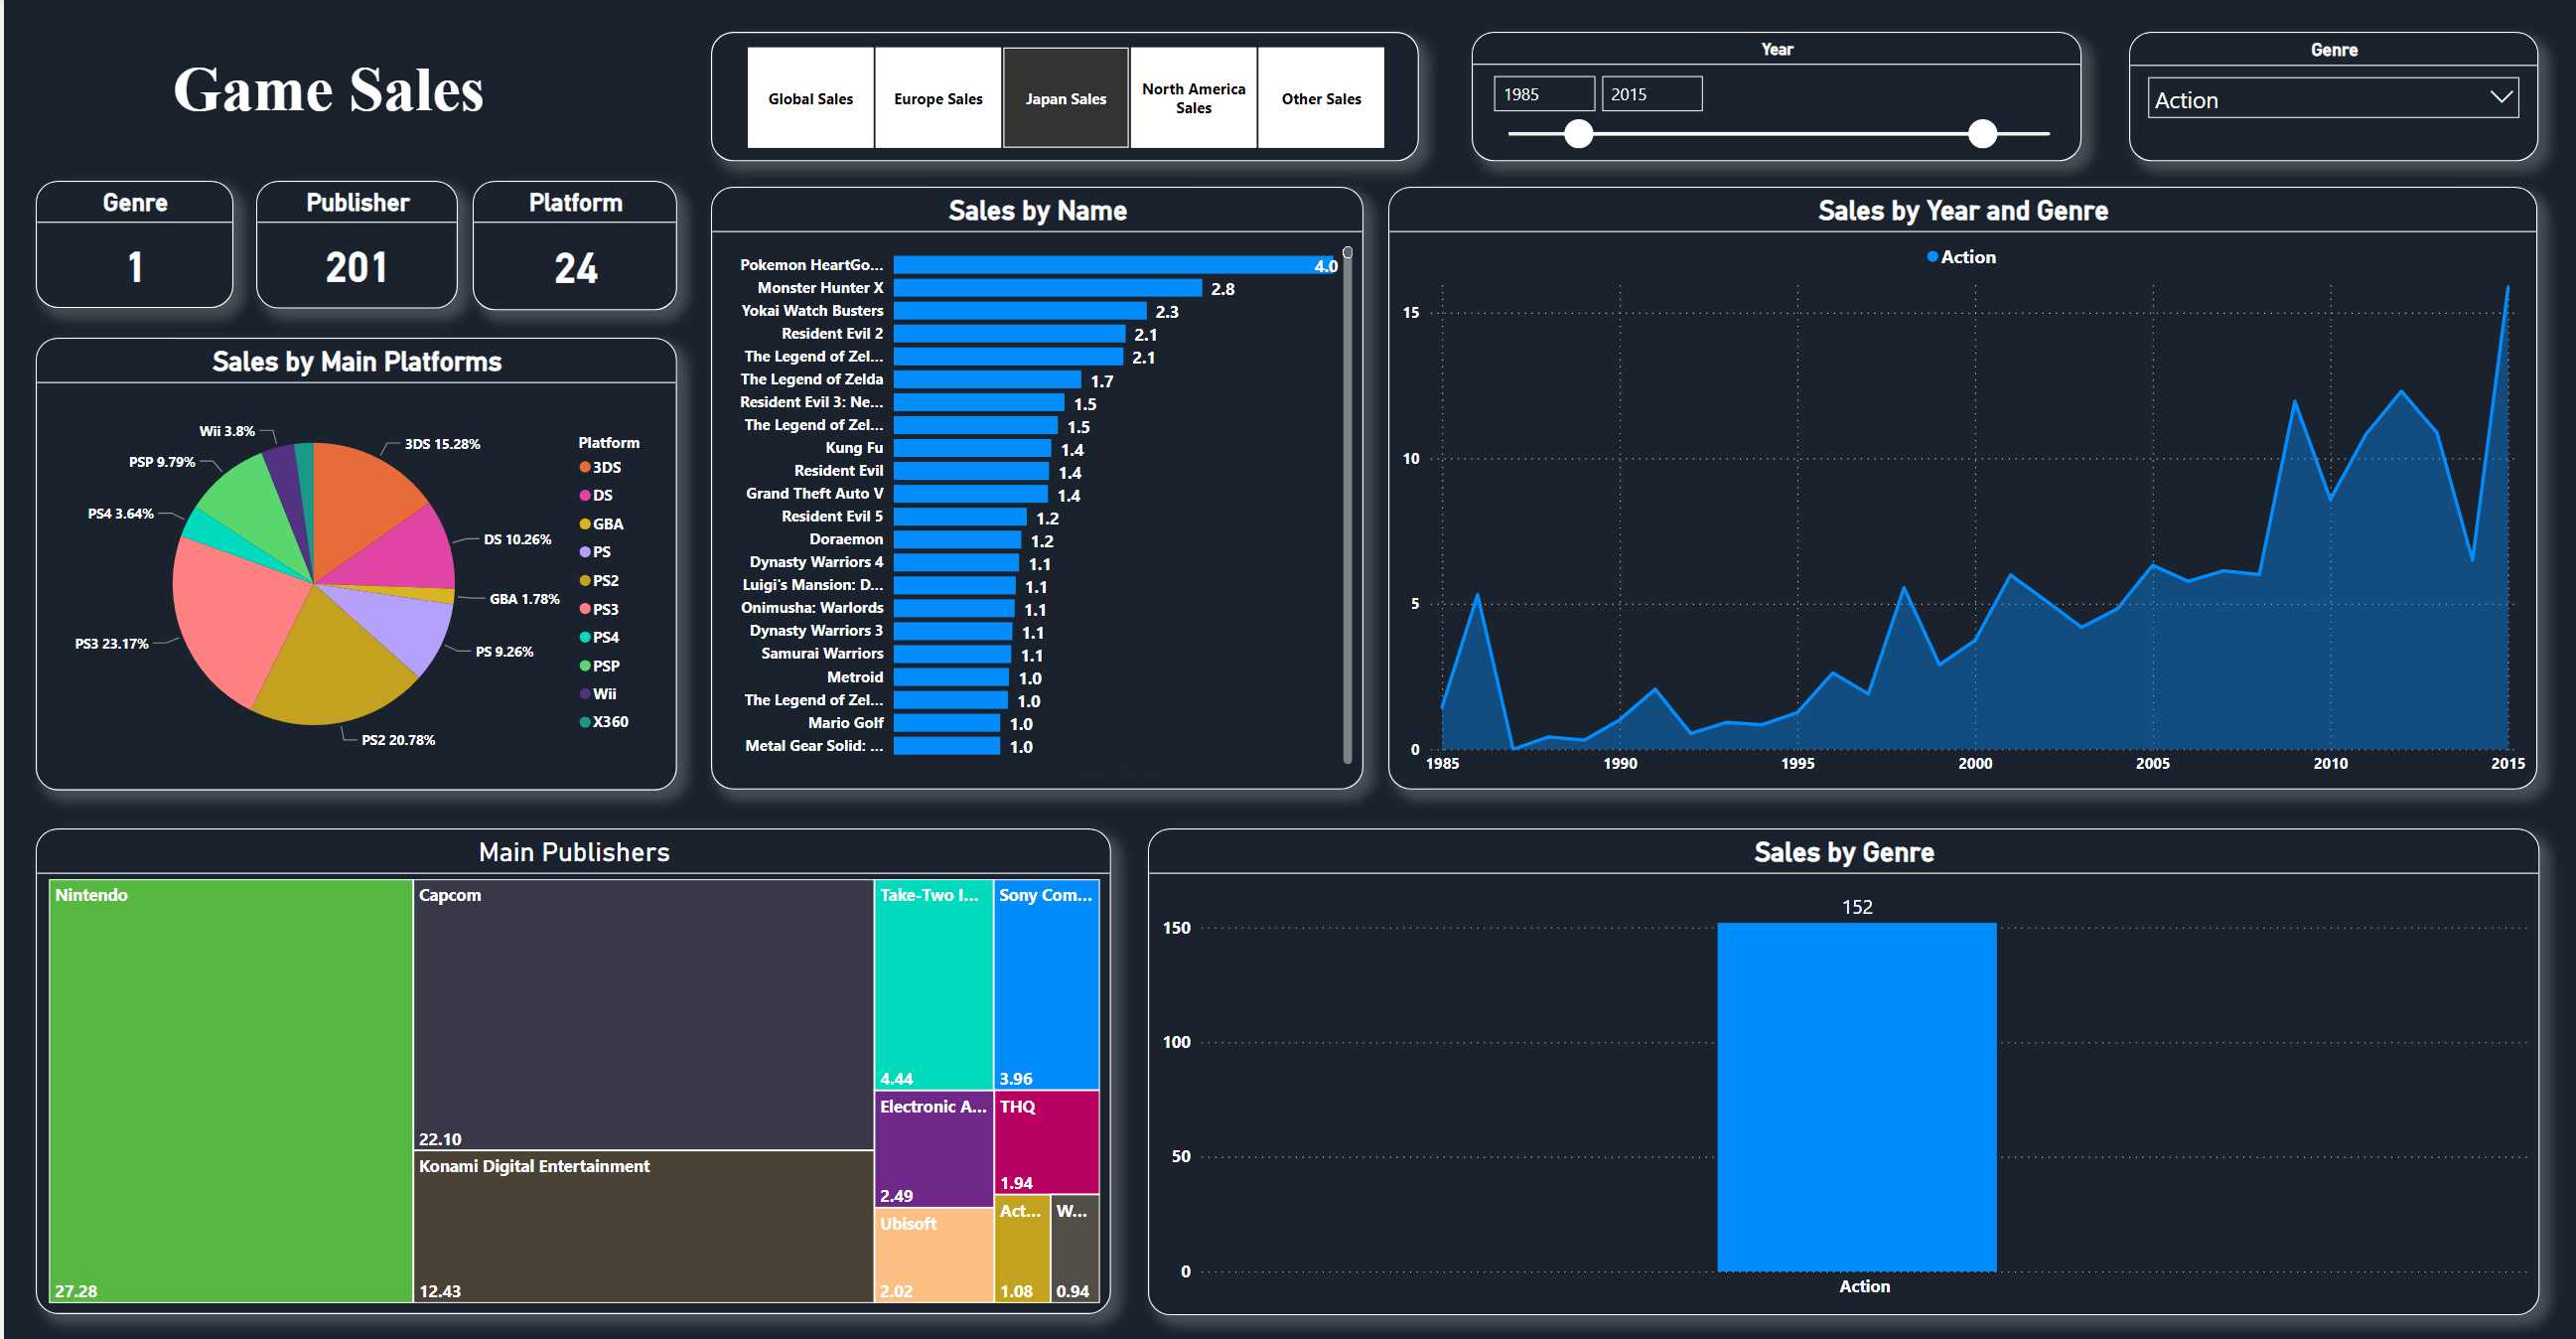

Layout of this report page (visuals, bound fields, positions):
{"tool":"powerbi","page":{"name":"Dashboard","canvas":[2300,1200],"ordinal":0},"visuals":[{"type":"slicer","fields":{"Values":["Sales_prm.Sales_prm"]},"box":[631.1,32.2,632.2,115.6],"z":0},{"type":"slicer","title":"Genre","fields":{"Values":["vgsales.Genre"]},"box":[1896.7,32.2,365.6,115.6],"z":1000},{"type":"clusteredColumnChart","title":"Sales by Genre","fields":{"Y":["Parameter.Japan Sales"],"Category":["vgsales.Genre"]},"box":[1021.1,743,1242.4,434.4],"z":2000},{"type":"barChart","title":"Sales by Name","fields":{"Y":["Parameter.Japan Sales"],"Category":["vgsales.Name"]},"box":[631.3,170.5,582.6,538],"z":3000},{"type":"treemap","title":"Main Publishers","fields":{"Values":["Parameter.Japan Sales"],"Group":["vgsales.Publisher"]},"box":[29,743.2,960,433.5],"z":4000},{"type":"pieChart","title":"Sales by Main Platforms","fields":{"Y":["Parameter.Japan Sales"],"Category":["vgsales.Platform"]},"box":[28.4,304.5,572.5,404],"z":5000},{"type":"slicer","title":"Year","fields":{"Values":["vgsales.Year"]},"box":[1311.1,32.2,544.4,115.6],"z":6000},{"type":"stackedAreaChart","title":"Sales by Year and Genre","fields":{"Y":["Parameter.Japan Sales"],"Category":["vgsales.Year"],"Series":["vgsales.Genre"]},"box":[1236.8,170.3,1025.8,538.1],"z":7000},{"type":"card","title":"Publisher","fields":{"Values":["Count(vgsales.Publisher)"]},"box":[224.5,164.5,180,114.2],"z":8000},{"type":"card","title":"Genre","fields":{"Values":["Count(vgsales.Genre)"]},"box":[28.4,164.4,176.6,113.7],"z":9000},{"type":"card","title":"Platform","fields":{"Values":["Count(vgsales.Platform)"]},"box":[418.2,164.4,182.7,115.7],"z":10000},{"type":"textbox","box":[45.6,45.6,487.8,78.9],"z":10001}]}

Visuals, with their boxes in screenshot pixels (x1, y1, x2, y2), scaled from the page's 2300x1200 canvas onto the 2576x1339 screenshot:
slicer - Sales_prm.Sales_prm: [707, 36, 1415, 165]
"Genre" slicer: [2124, 36, 2533, 165]
"Sales by Genre" clusteredColumnChart: [1144, 829, 2535, 1314]
"Sales by Name" barChart: [707, 191, 1360, 791]
"Main Publishers" treemap: [33, 829, 1107, 1313]
"Sales by Main Platforms" pieChart: [32, 340, 673, 791]
"Year" slicer: [1469, 36, 2078, 165]
"Sales by Year and Genre" stackedAreaChart: [1385, 190, 2534, 791]
"Publisher" card: [251, 184, 453, 311]
"Genre" card: [32, 184, 229, 310]
"Platform" card: [469, 184, 673, 313]
textbox: [51, 51, 598, 139]
